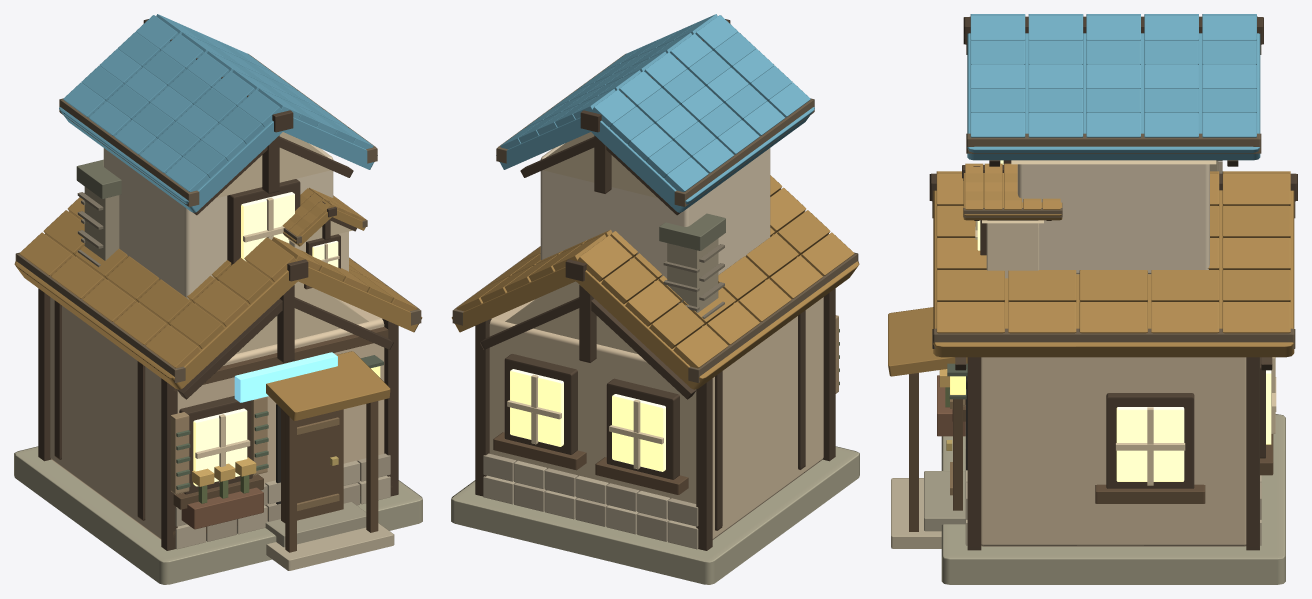
Rendered from workshop-1-3.glb.
3 renders of one model, left to right at view 1: azimuth 30°, elevation 25°; view 2: azimuth 150°, elevation 25°; view 3: azimuth 270°, elevation 25°, orthographic. The views are drawn at different scales.
Parts seen in each view (by area): view 1: workshop-3-1, door-hinge; view 2: workshop-3-1; view 3: workshop-3-1, door-hinge.
Part boxes in pixels (x1,y1,x2,y2): workshop-3-1: [14, 14, 422, 584]; door-hinge: [281, 408, 343, 522]; workshop-3-1: [451, 14, 859, 584]; workshop-3-1: [888, 14, 1297, 584]; door-hinge: [946, 399, 962, 510].
Size of the model in its own units: 1.88 by 3 by 2.24.
